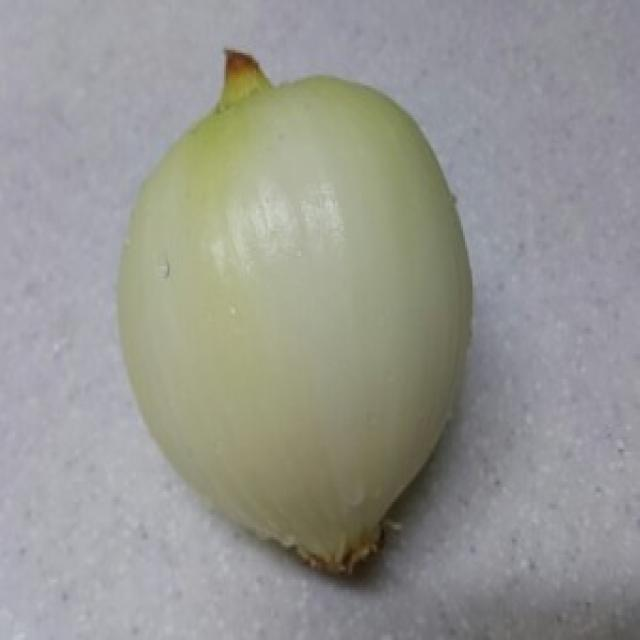onion: (92, 37, 539, 615)
